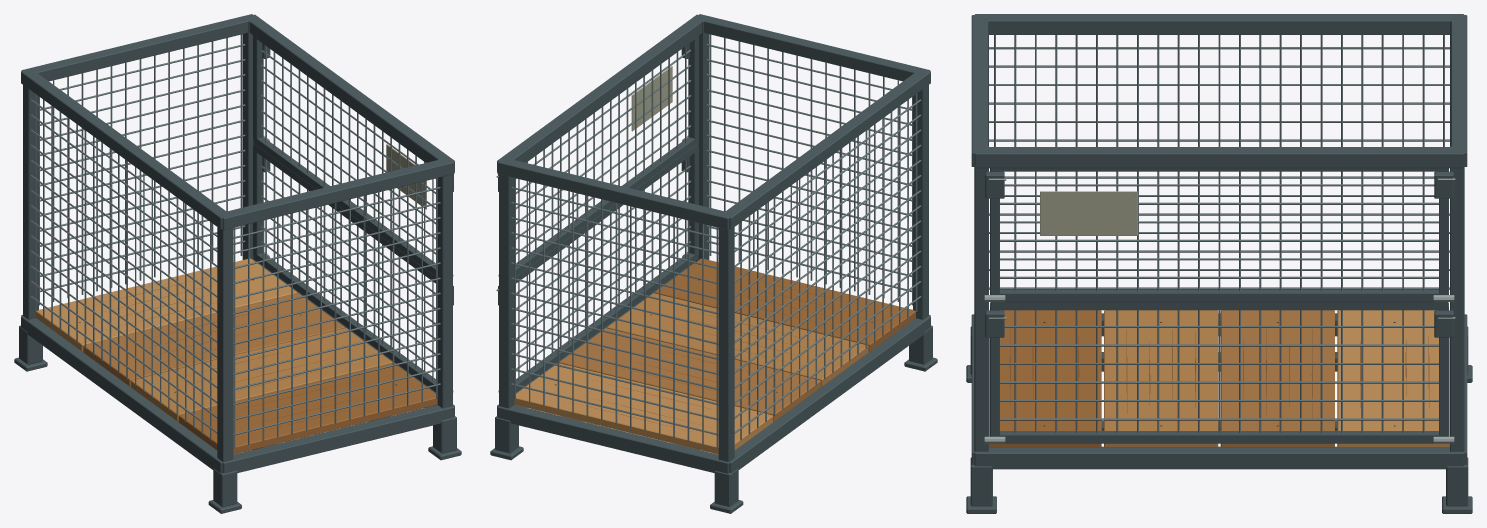
The model's file is cage.dae.
3 renders of one model, left to right at view 1: azimuth 30°, elevation 25°; view 2: azimuth 150°, elevation 25°; view 3: azimuth 270°, elevation 25°, orthographic. The views are drawn at different scales.
Parts seen in each view (by area): view 1: model; view 2: model; view 3: model.
Part boxes in pixels (<box>): model: <box>14,14,461,513</box>; model: <box>490,14,937,513</box>; model: <box>966,14,1472,513</box>.
Size of the model in its own units: 0.8365 by 1.24 by 0.97.
